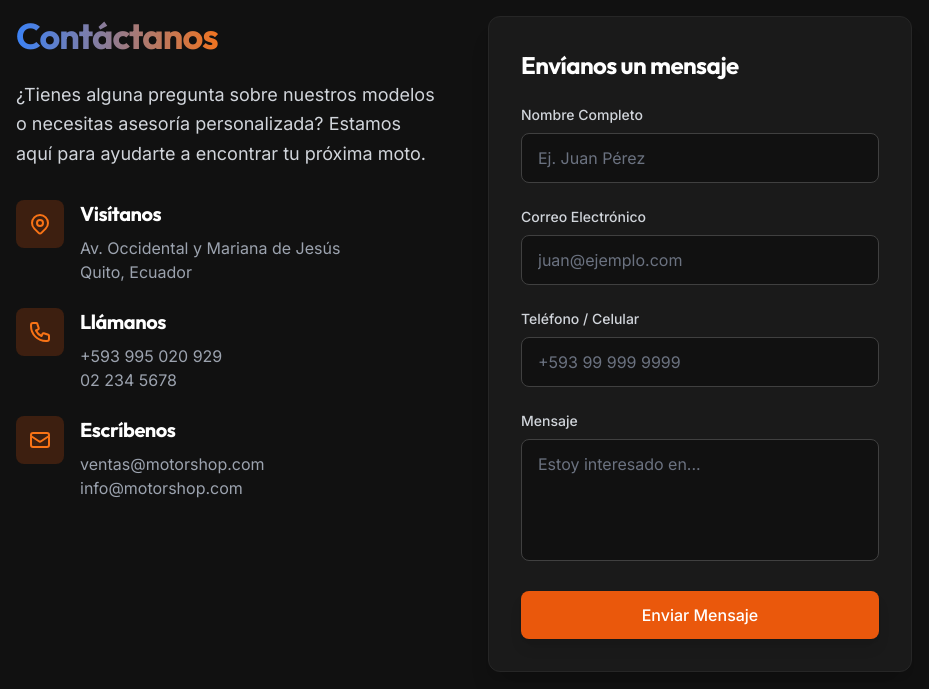
Test: Contact Page › submits form successfully
The width and height of the screenshot is (929, 689).
Type "Test User" into the field labelled "Nombre Completo". click: [700, 158]
box: [521,133,879,183]
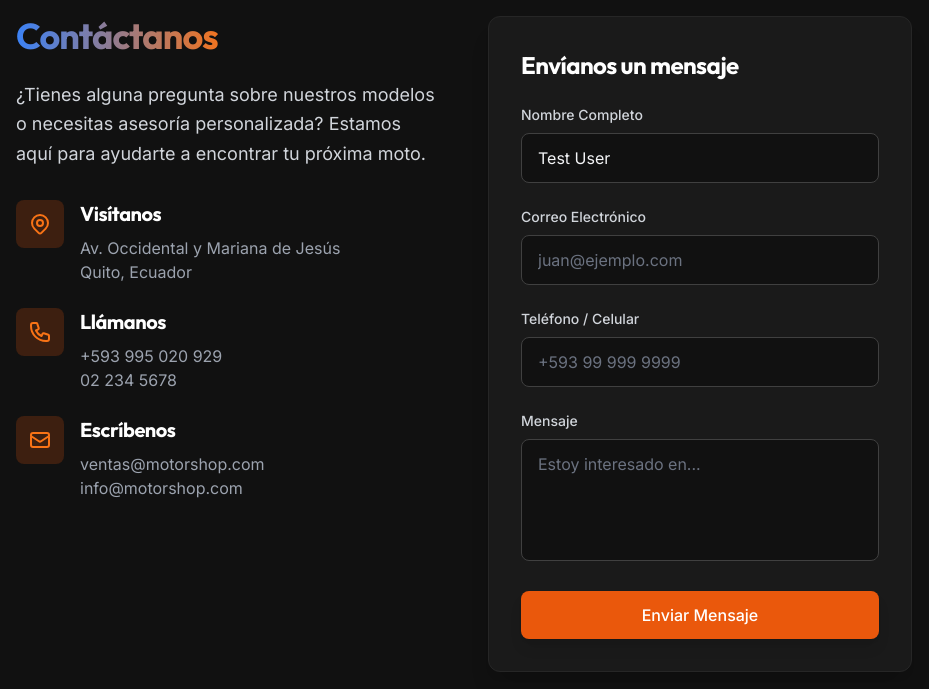
Type "test@example.com" into the field labelled "Correo Electrónico". click: [700, 260]
box: [521,235,879,285]
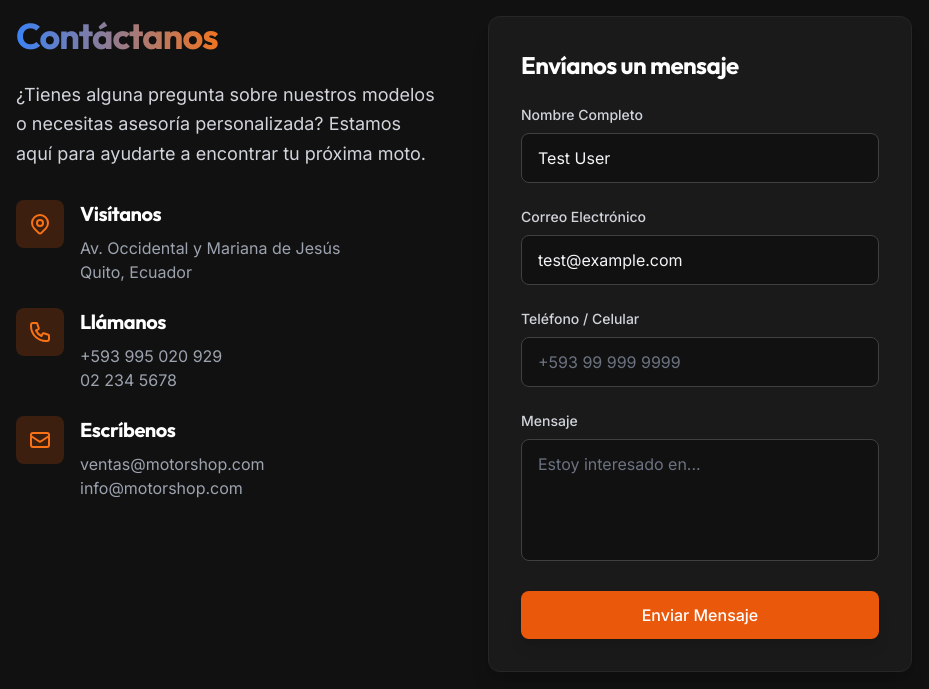
Type "1234567890" into the field labelled "Teléfono / Celular". click: [700, 362]
box: [521,337,879,387]
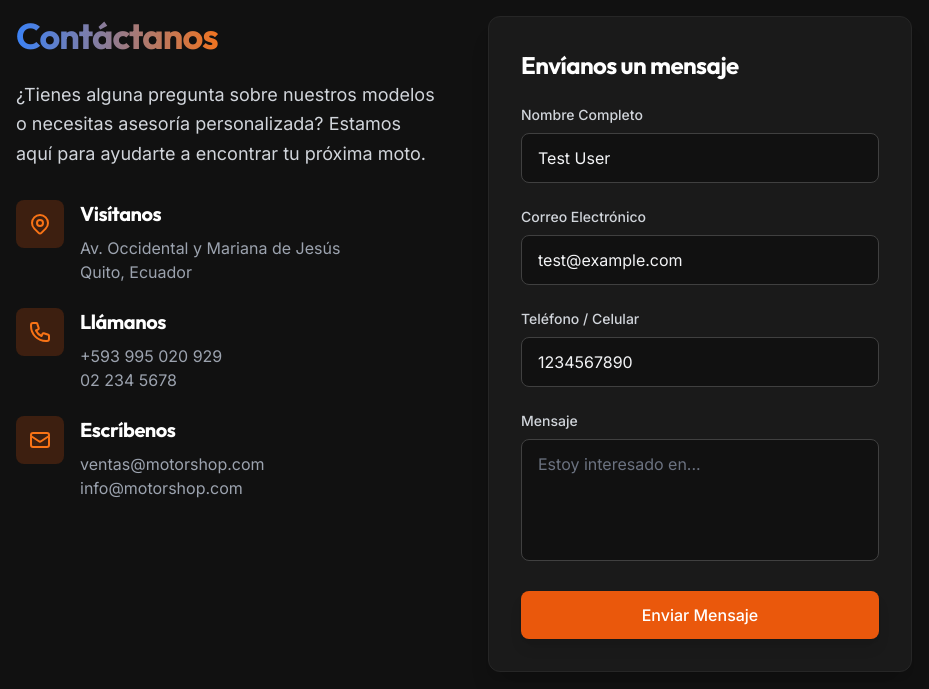
Type "Hello, I am interested." into the text box labelled "Mensaje". click: [700, 500]
box: [521,439,879,561]
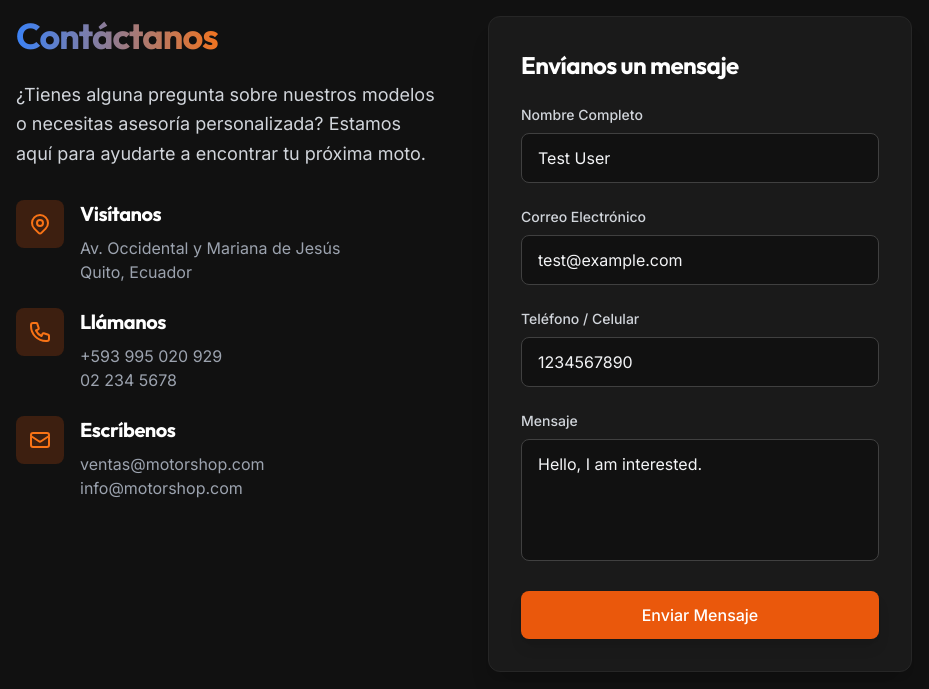
Click the button "Enviar Mensaje". click: [700, 615]
box: [521,591,879,639]
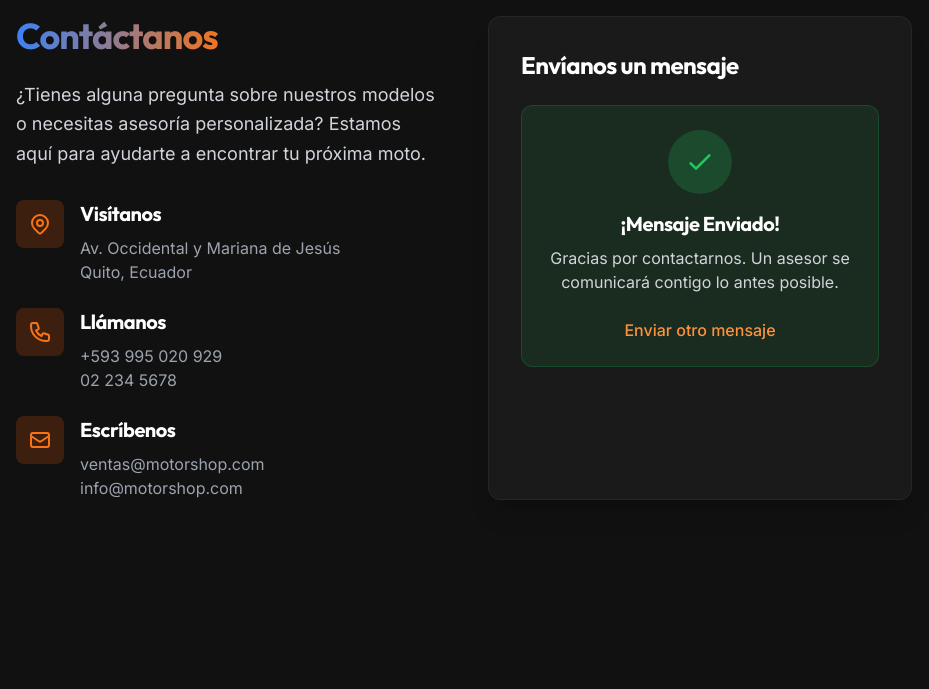
Expected: the heading "¡Mensaje Enviado!" is shown, [621,211,779,236]
